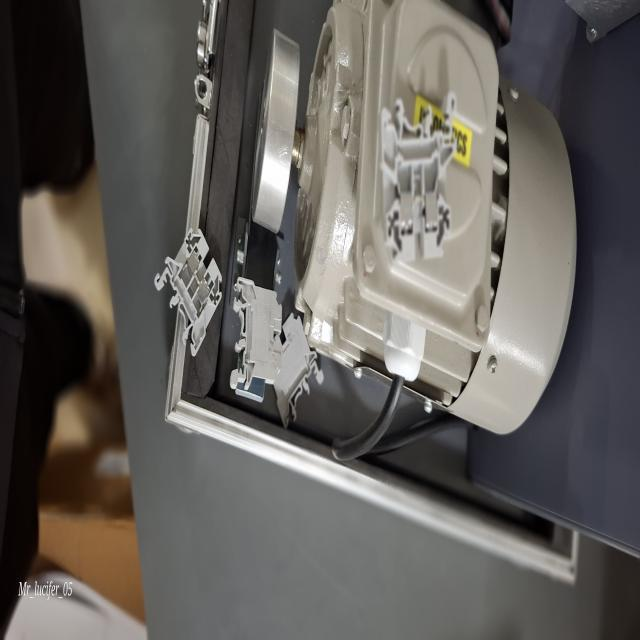Inverted: (265, 312, 327, 434), (230, 271, 285, 405)
Pass: (380, 88, 458, 269), (150, 216, 229, 356)
